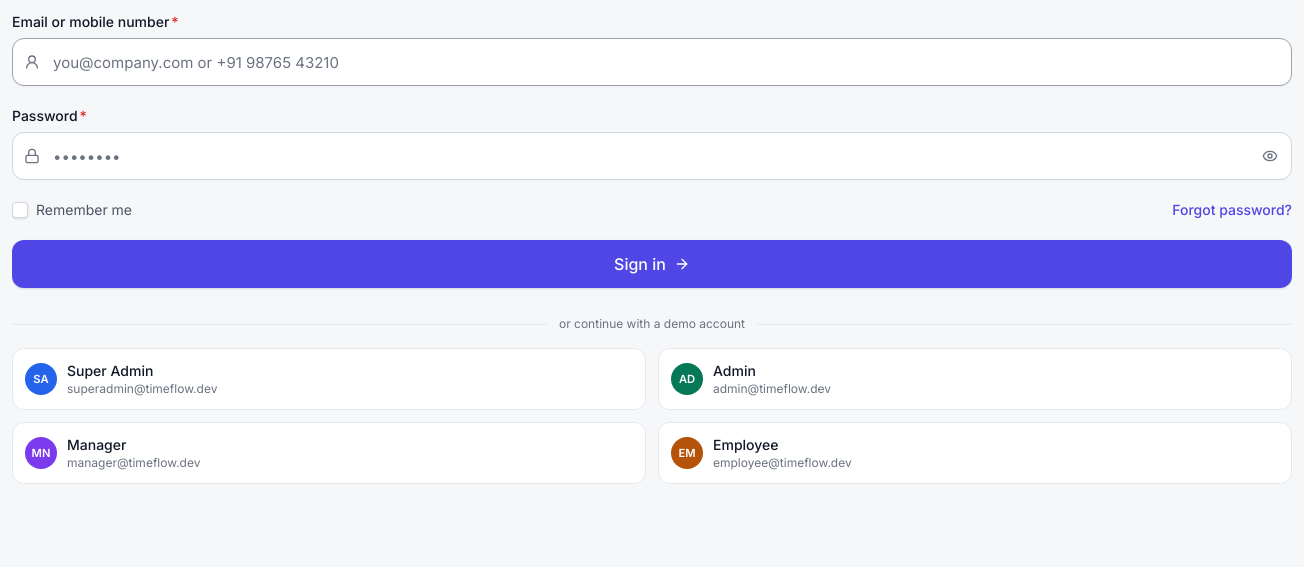
it: LoginForm › displays the server error for invalid credentials
Type "admin@timeflow.dev" into the field labelled "Email or mobile number*".
click(652, 62); type("admin@timeflow.dev")  # box left=12, top=38, right=1292, bottom=86
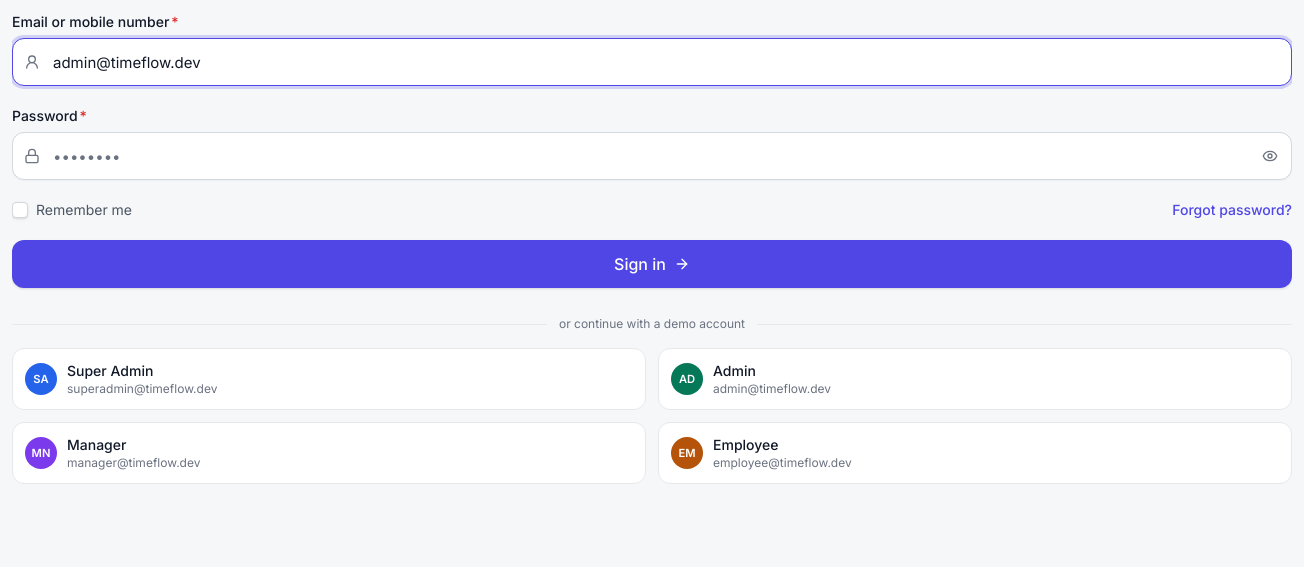
Type "wrong-pass1" into the password field labelled "Password*".
click(652, 156); type("wrong-pass1")  # box left=12, top=132, right=1292, bottom=180
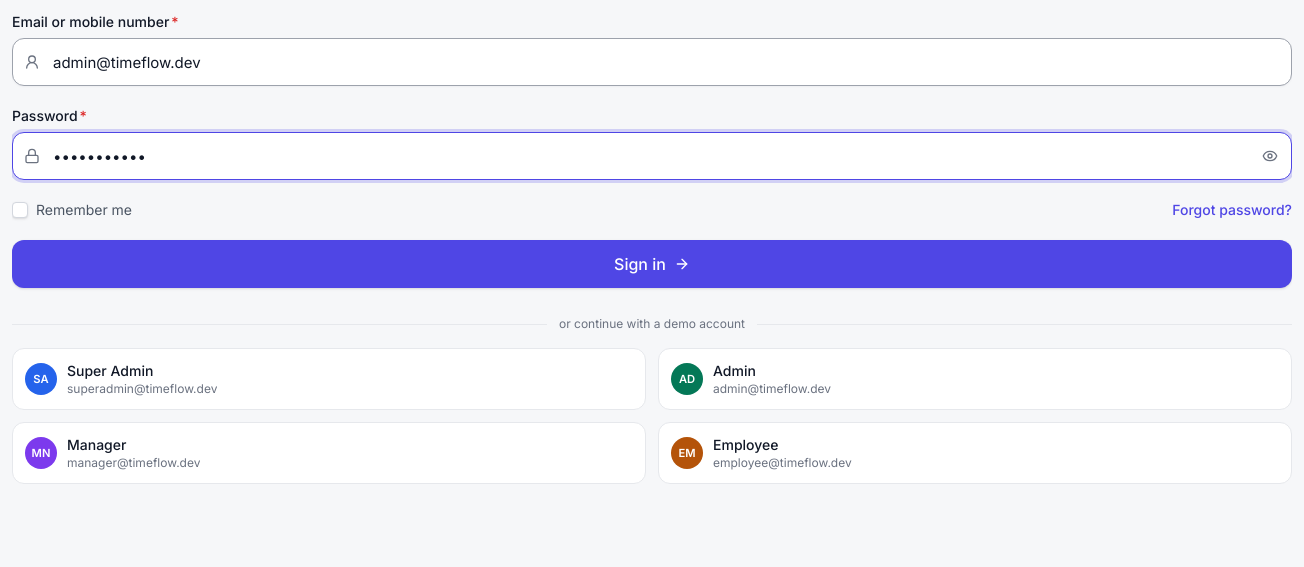
Click the button "Sign in".
click(652, 264)  # box left=12, top=240, right=1292, bottom=288
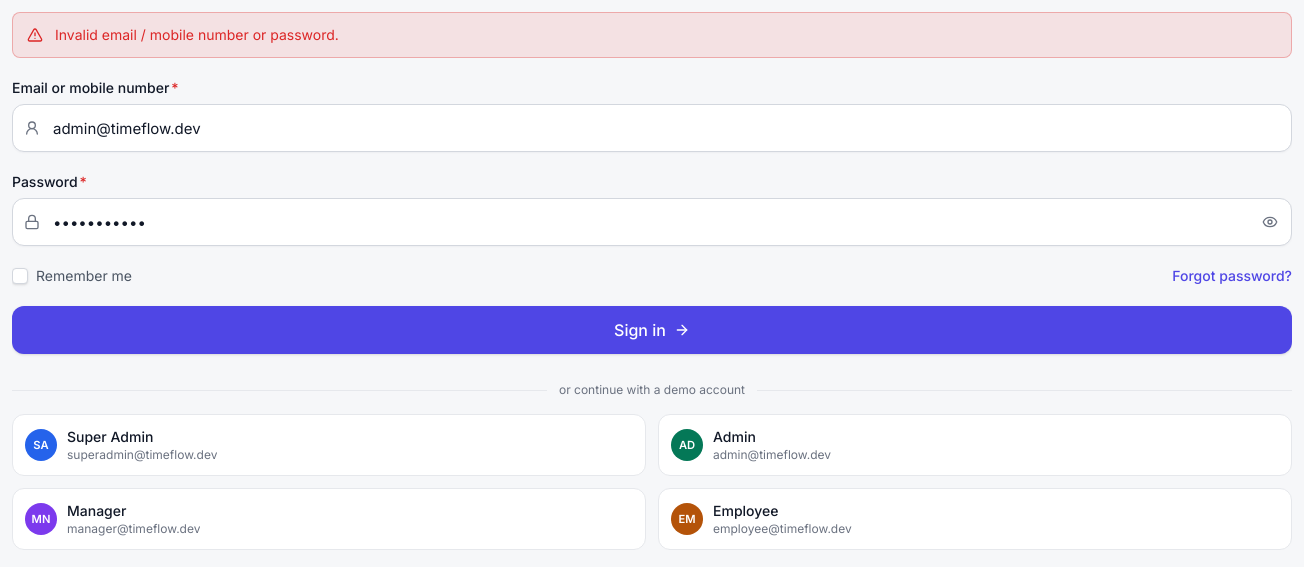
Expected: the message reads "Invalid email / mobile number or password.", left=55, top=26, right=339, bottom=43
